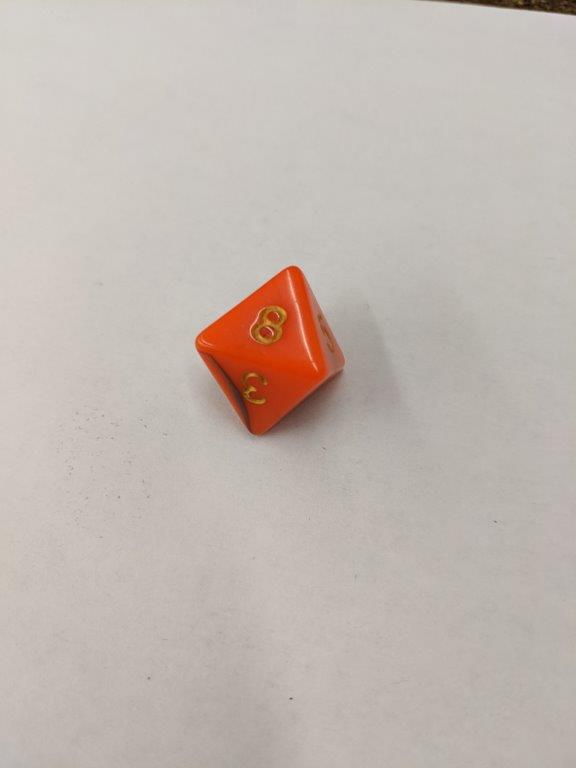d8-8: (195, 265, 345, 435)
